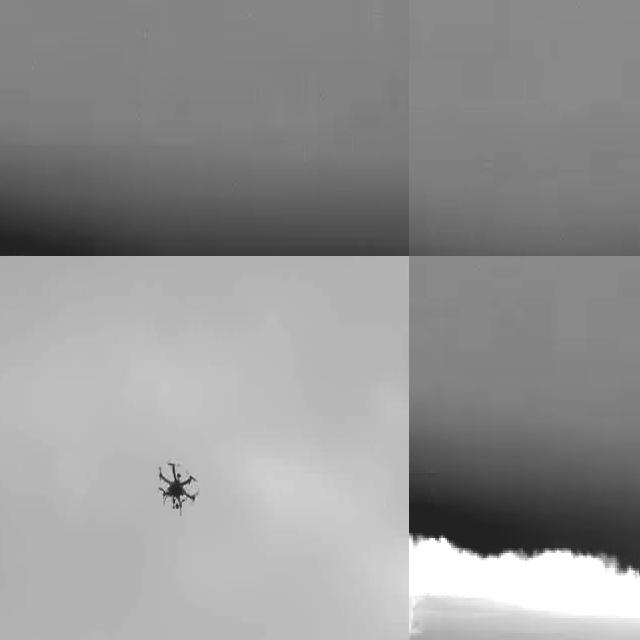drone: (150, 454, 204, 516)
